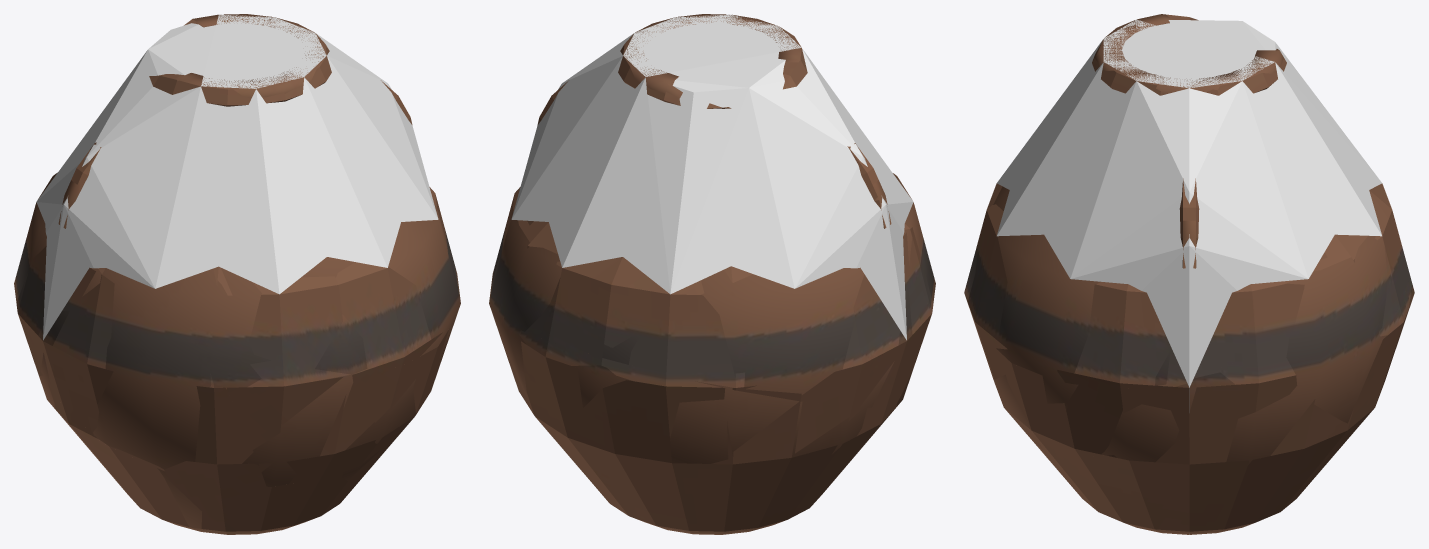
The model's file is urn.webp.glb.
The picture shows the model from 3 angles, left to right: view 1: azimuth 30°, elevation 25°; view 2: azimuth 150°, elevation 25°; view 3: azimuth 270°, elevation 25°; orthographic projection.
Parts seen in each view (by area): view 1: COL, LOD0_body, FRAC_2, FRAC_6, FRAC_1, FRAC_0, FRAC_3, FRAC_5; view 2: COL, FRAC_0, LOD0_body, FRAC_2, FRAC_4, FRAC_3, FRAC_6; view 3: COL, LOD0_body, FRAC_0, FRAC_6, FRAC_1, FRAC_4, FRAC_3.
Part boxes in pixels (x1=…): COL: x1=36, y1=14, x2=438, y2=340; LOD0_body: x1=14, y1=14, x2=460, y2=534; FRAC_2: x1=16, y1=246, x2=266, y2=486; FRAC_6: x1=249, y1=187, x2=459, y2=373; FRAC_1: x1=227, y1=329, x2=449, y2=484; FRAC_0: x1=34, y1=361, x2=396, y2=534; FRAC_3: x1=82, y1=19, x2=412, y2=163; FRAC_5: x1=65, y1=161, x2=232, y2=295; COL: x1=511, y1=14, x2=913, y2=340; FRAC_0: x1=502, y1=330, x2=898, y2=533; LOD0_body: x1=489, y1=14, x2=935, y2=534; FRAC_2: x1=629, y1=227, x2=933, y2=407; FRAC_4: x1=490, y1=251, x2=667, y2=357; FRAC_3: x1=530, y1=45, x2=866, y2=243; FRAC_6: x1=500, y1=187, x2=626, y2=260; COL: x1=997, y1=19, x2=1381, y2=534; LOD0_body: x1=964, y1=14, x2=1414, y2=534; FRAC_0: x1=1041, y1=277, x2=1412, y2=533; FRAC_6: x1=965, y1=183, x2=1373, y2=389; FRAC_1: x1=967, y1=301, x2=1278, y2=456; FRAC_4: x1=1257, y1=183, x2=1410, y2=411; FRAC_3: x1=1092, y1=14, x2=1357, y2=267.
Size of the model in its own units: 0.64 by 0.7 by 0.64.
Materials: 1 (1 with a texture image).
